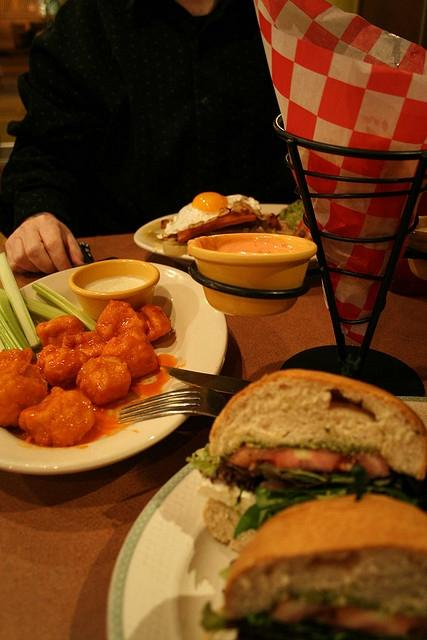celery: (0, 252, 41, 349), (32, 281, 97, 332), (0, 296, 33, 352), (22, 296, 71, 320)
lettuce: (234, 486, 318, 538), (303, 590, 391, 614), (330, 466, 392, 486), (201, 602, 227, 632), (246, 612, 272, 628), (292, 475, 316, 483)
tomato: (230, 446, 391, 478), (336, 606, 426, 636)
